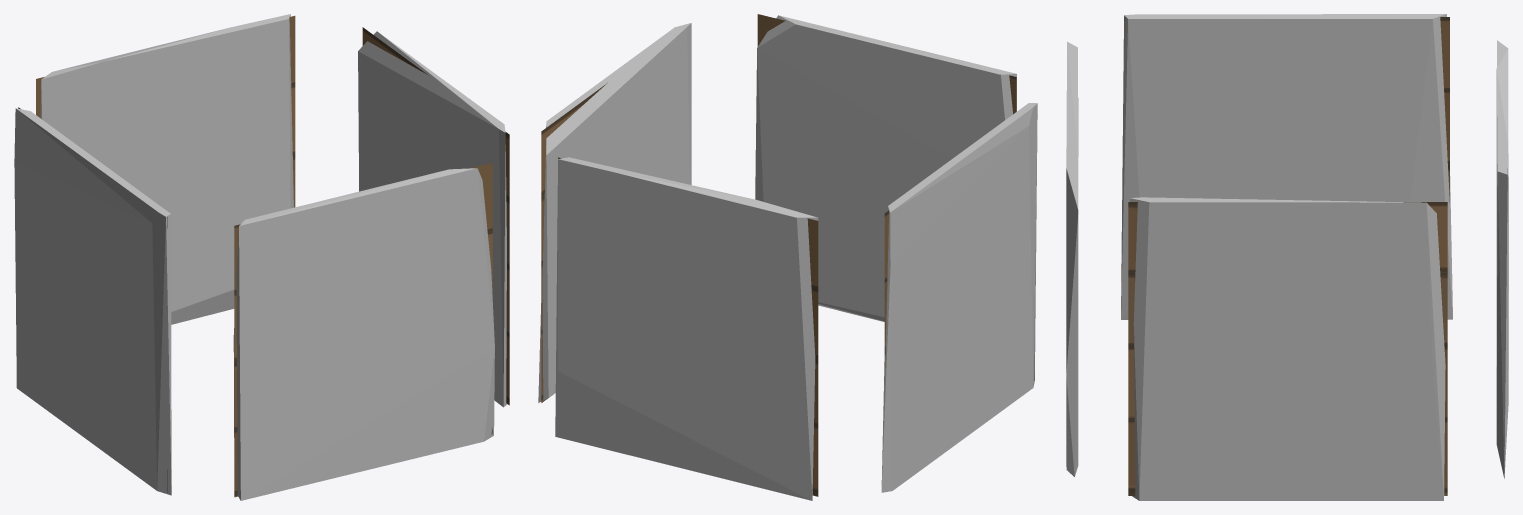
File: SM_Prop_Crate_05_Crate05_panels.fbx
3 views of the same model, side by side, from view 1: azimuth 30°, elevation 25°; view 2: azimuth 150°, elevation 25°; view 3: azimuth 270°, elevation 25° (orthographic). The views are drawn at different scales.
Visible parts, largest first — view 1: SM_Prop_Crate_05_Crate05_panels_ConvexHulls, SM_Prop_Crate_05_Crate05_panels; view 2: SM_Prop_Crate_05_Crate05_panels_ConvexHulls, SM_Prop_Crate_05_Crate05_panels; view 3: SM_Prop_Crate_05_Crate05_panels_ConvexHulls, SM_Prop_Crate_05_Crate05_panels.
Boxes of the visible parts, <box> form: SM_Prop_Crate_05_Crate05_panels_ConvexHulls: <box>14,14,507,500</box>; SM_Prop_Crate_05_Crate05_panels: <box>18,16,509,497</box>; SM_Prop_Crate_05_Crate05_panels_ConvexHulls: <box>538,15,1037,500</box>; SM_Prop_Crate_05_Crate05_panels: <box>541,14,1034,496</box>; SM_Prop_Crate_05_Crate05_panels_ConvexHulls: <box>1066,14,1508,500</box>; SM_Prop_Crate_05_Crate05_panels: <box>1124,17,1449,495</box>.
Size of the model in its own units: 77.47 by 77.46 by 59.14.
Materials: 2 (1 with a texture image).
